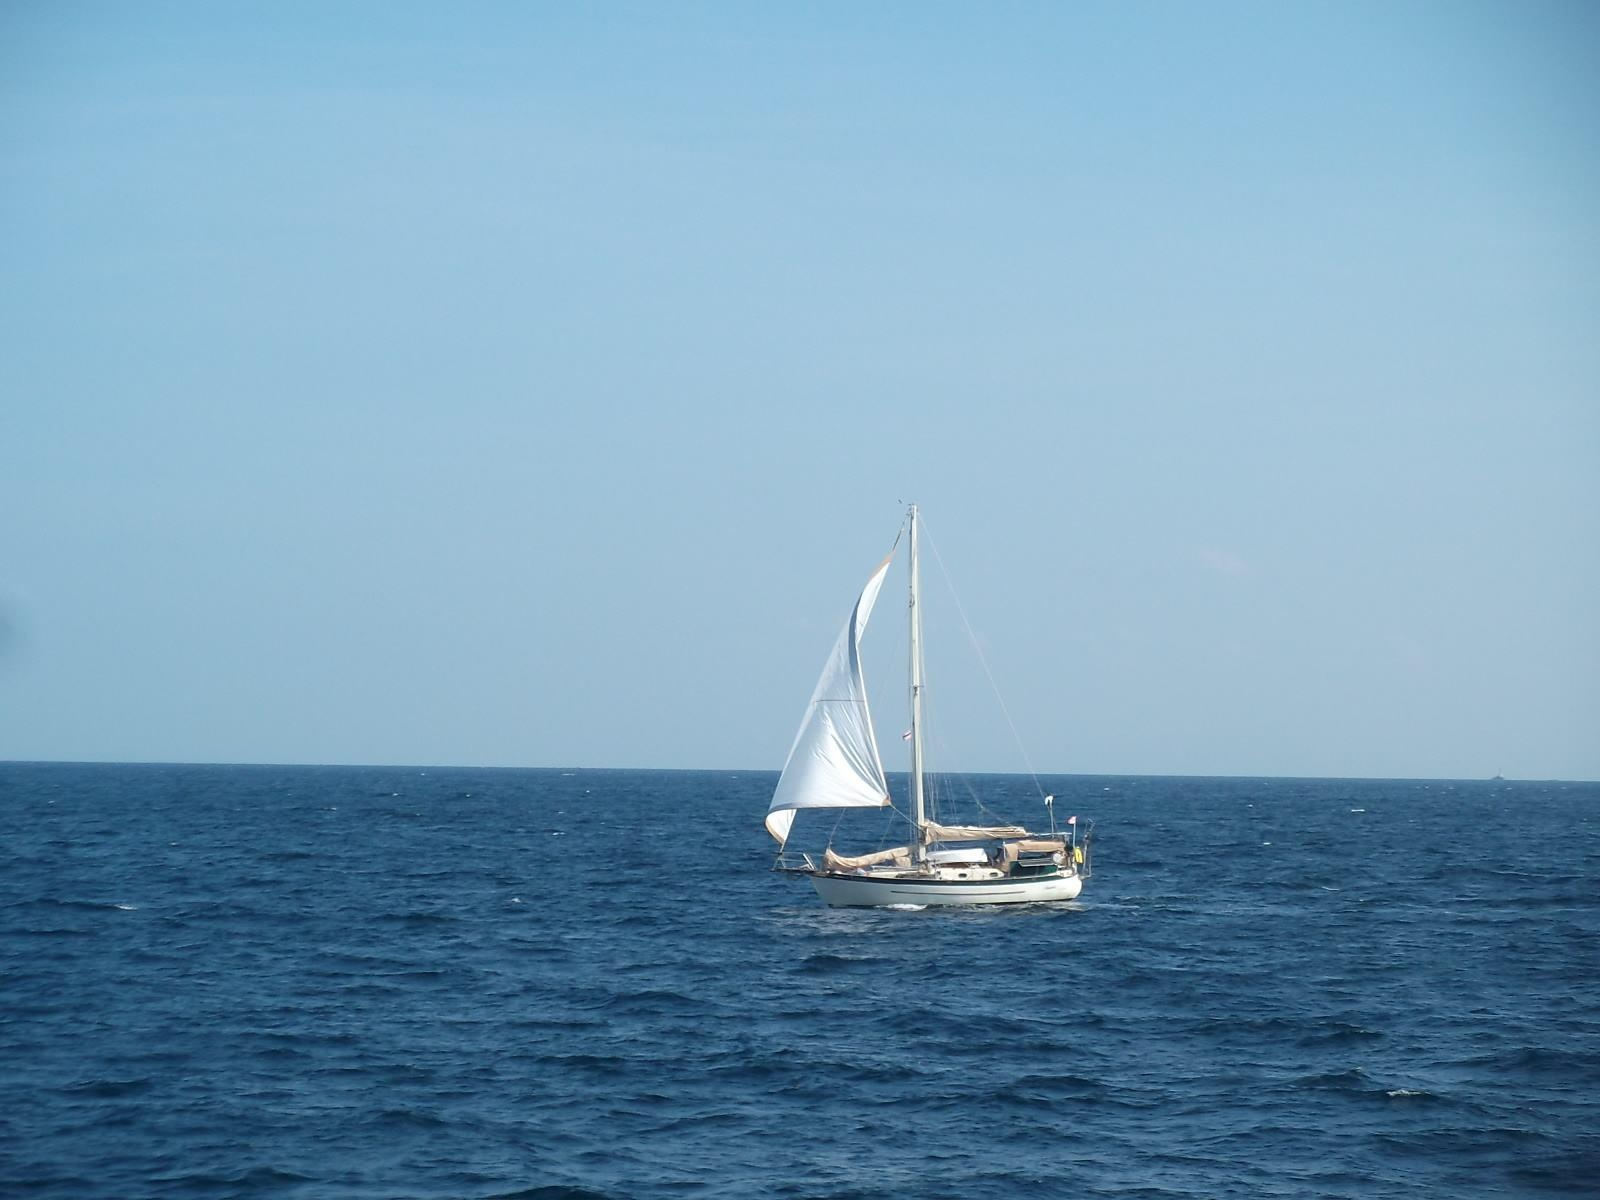fanchuan: (753, 497, 1099, 914)
